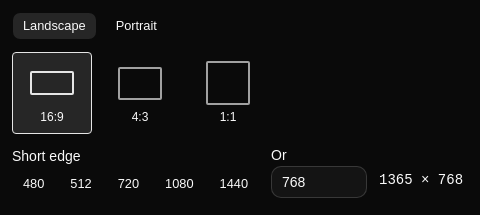
Test case: ResolutionPicker › keeps the short edge it had when the box is emptied
Clear the number field labelled "Or" at (319, 182), box top-left (271, 166), bottom-right (367, 198)
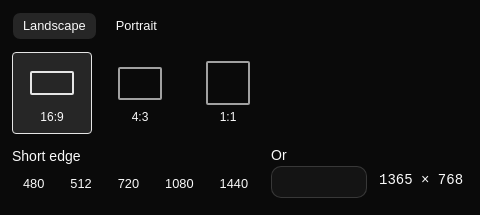
Leave the number field labelled "Or", box top-left (271, 166), bottom-right (367, 198)
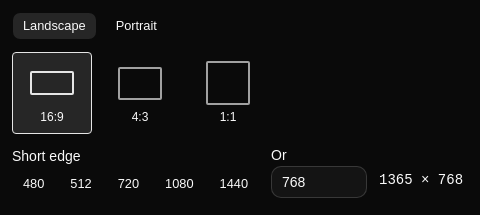
Check: the number field labelled "Or" holds "768", box top-left (271, 166), bottom-right (367, 198)
